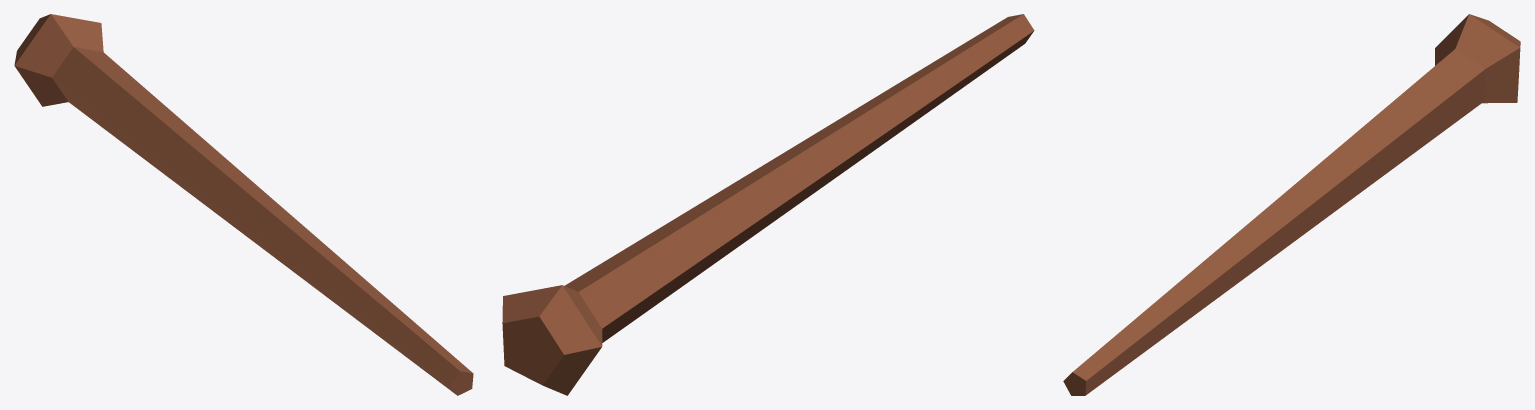
Rendered from knitting_needles.fbx.
3 views of the same model, side by side, from view 1: azimuth 30°, elevation 25°; view 2: azimuth 150°, elevation 25°; view 3: azimuth 330°, elevation 25° (orthographic). The views are drawn at different scales.
Visible parts, largest first — view 1: knitting needles; view 2: knitting needles; view 3: knitting needles.
Part boxes in pixels (bbox=[...]): knitting needles: bbox=[14, 14, 473, 395]; knitting needles: bbox=[502, 14, 1034, 395]; knitting needles: bbox=[1063, 14, 1520, 395].
Bounding box in the file's own units: 5.15 × 5.29 × 43.45.
